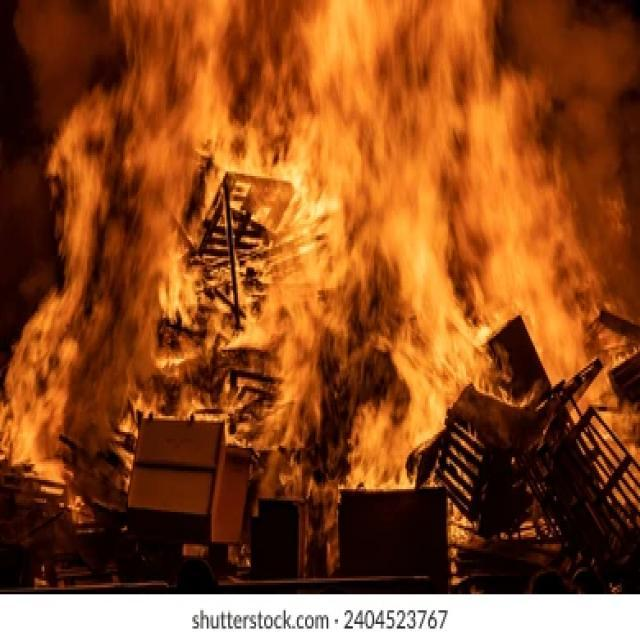fire: (120, 0, 632, 498), (10, 88, 114, 466)
